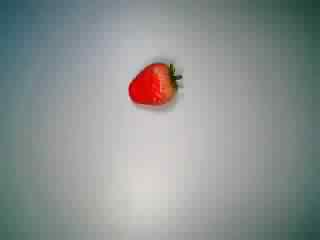strawberry: (115, 52, 183, 116)
